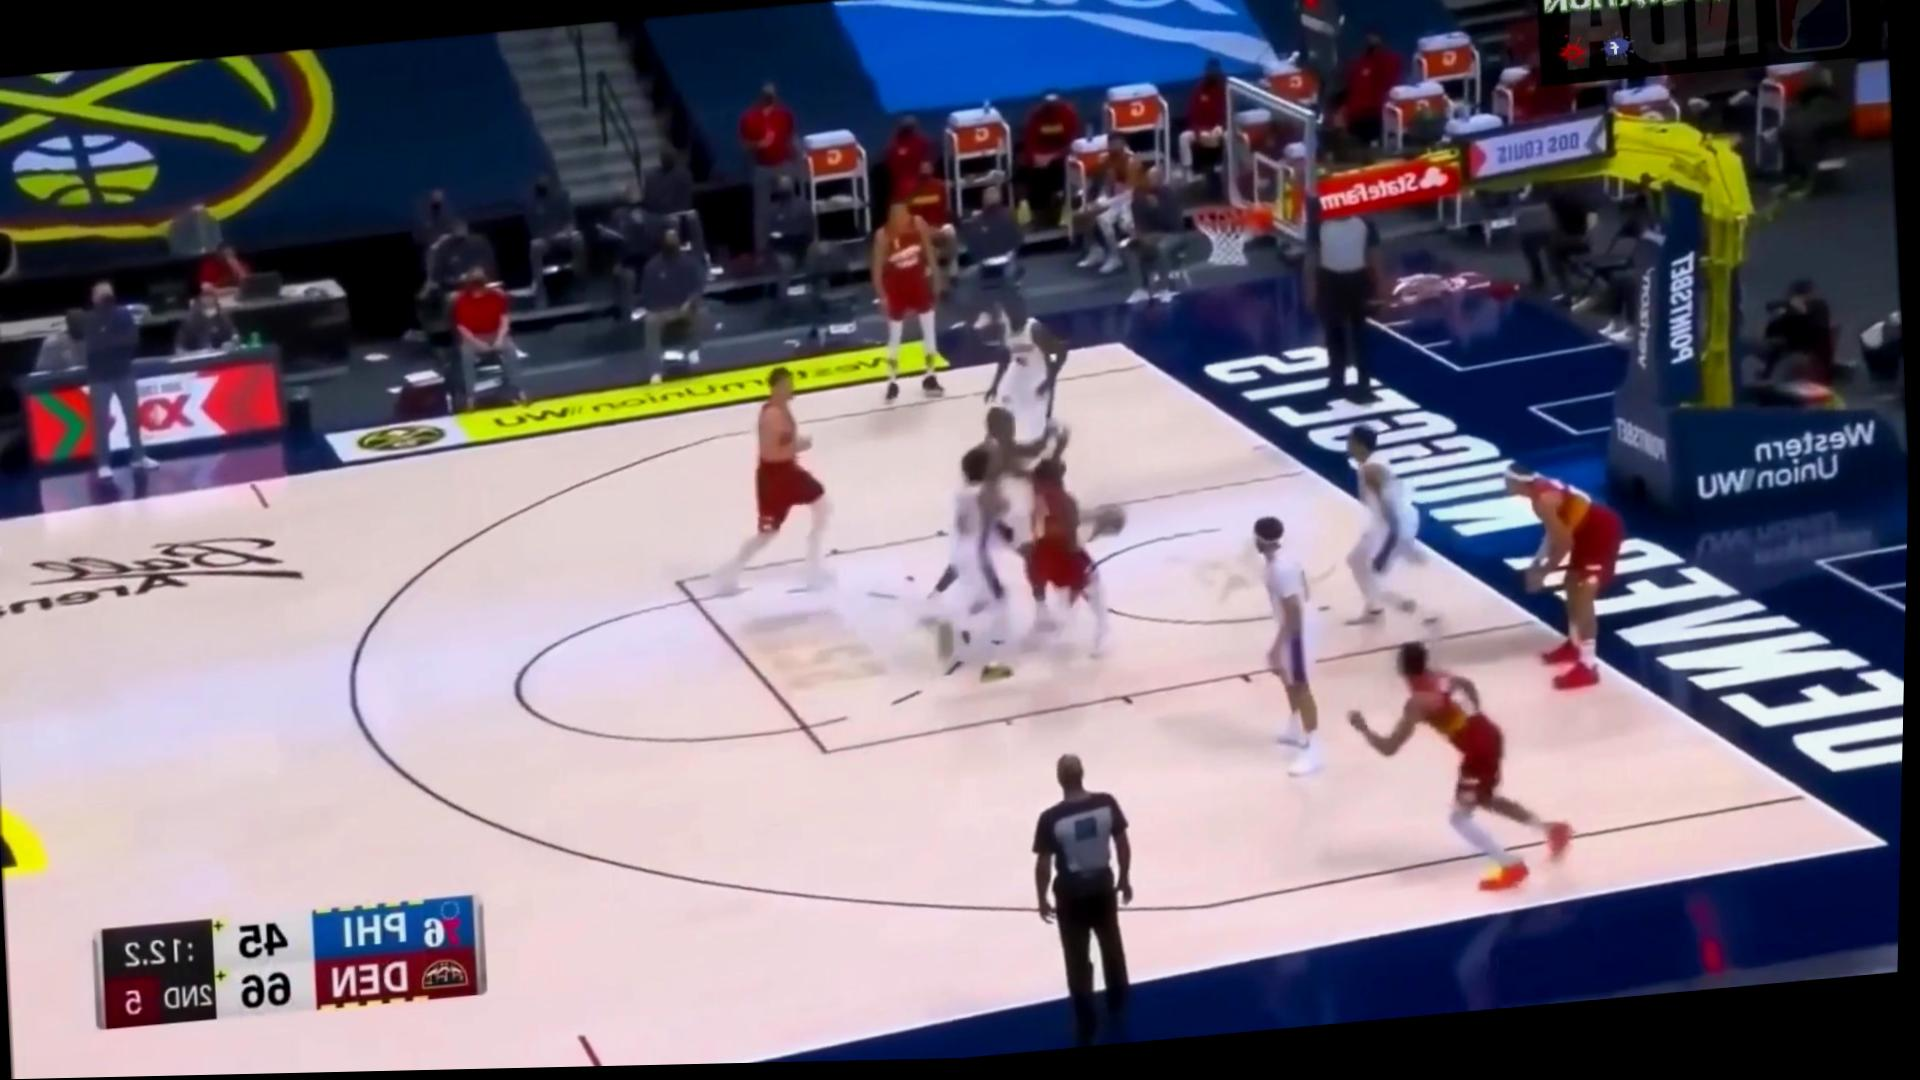no_foul: (931, 422, 1137, 694)
